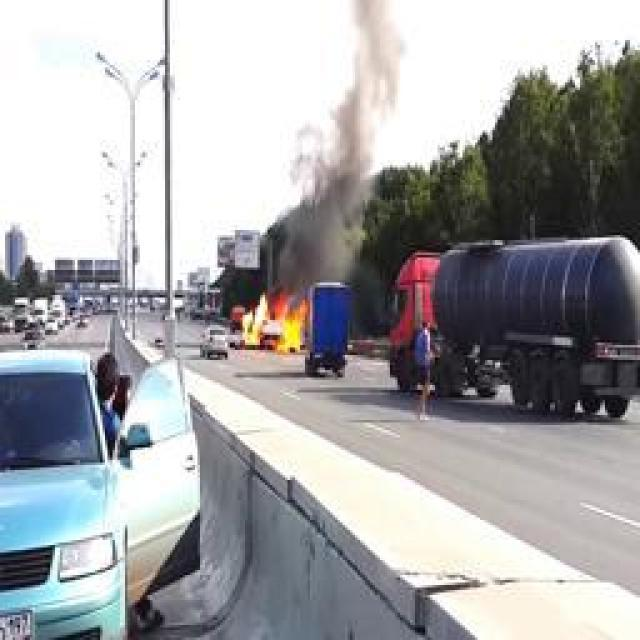Fire: (242, 291, 310, 354)
